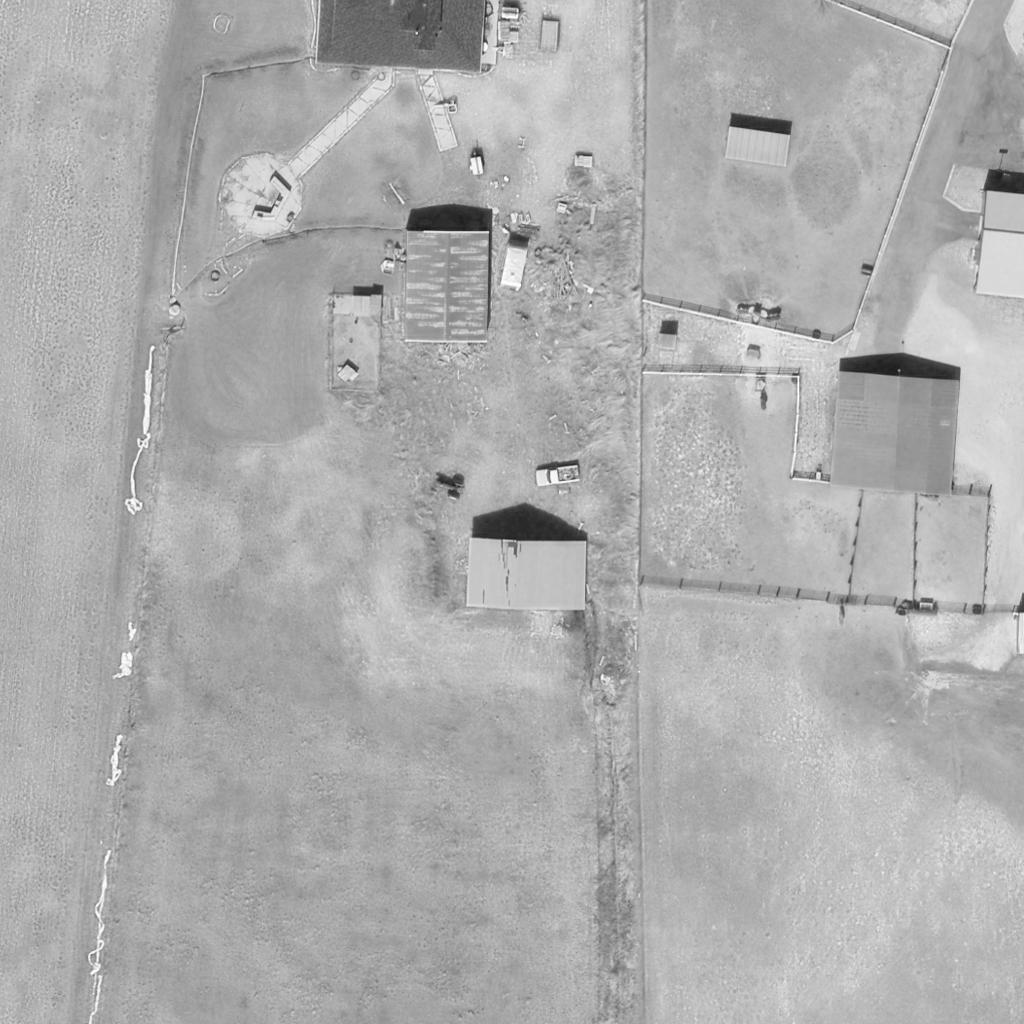vehicle: (500, 243, 530, 291), (427, 473, 471, 505), (538, 467, 582, 487)
